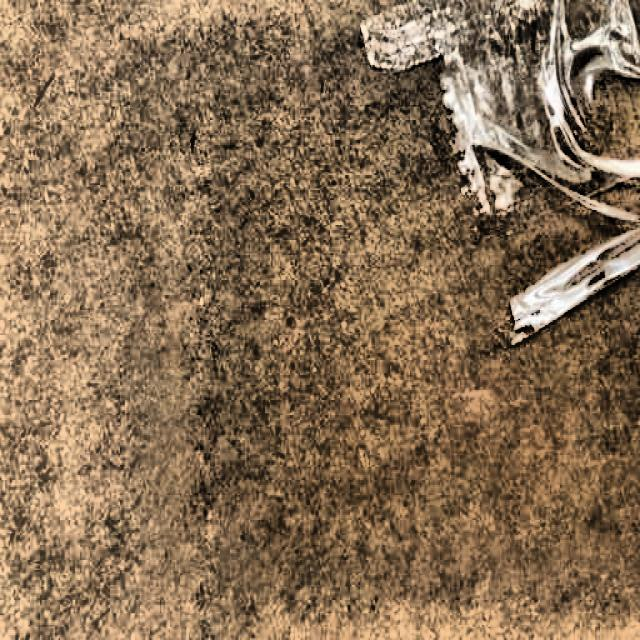cardboard: (14, 18, 626, 628)
